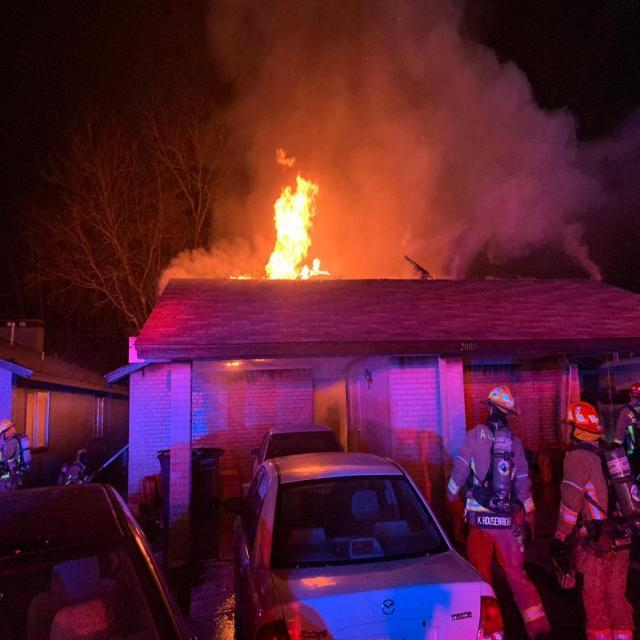Fire: (231, 144, 330, 282)
